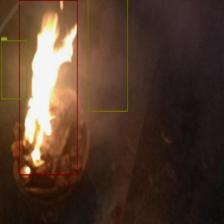fire: (19, 0, 78, 175)
smoke: (88, 0, 128, 112), (1, 40, 27, 99)
